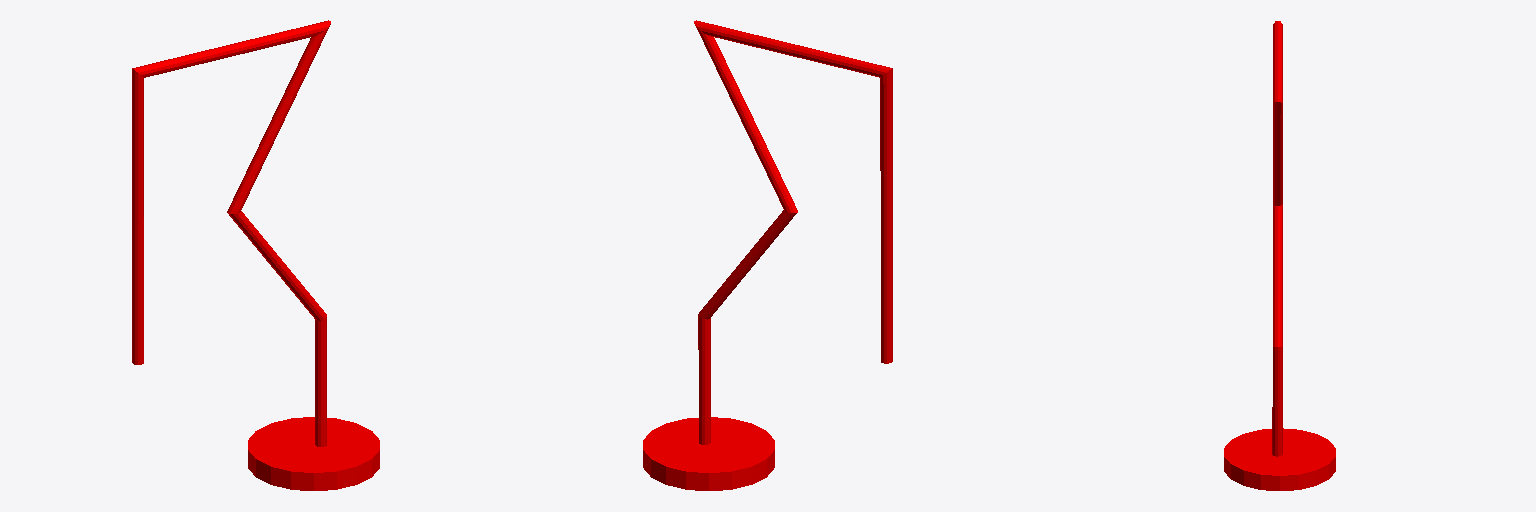
URDF robot description (ring):
<?xml version="0.0" ?>
<robot name="ring">
    <material name="white">
        <color rgba="1 0 0 1"/>
    </material>

    <link name="baseLink">
        <!-- from lego/lego.urdf -->
        <contact>
            <lateral_friction value="1.0"/>
            <rolling_friction value="0.0"/>
            <contact_cfm value="0.0"/>
            <contact_erp value="1.0"/>
        </contact>
        <inertial>
            <origin rpy="0 0 0" xyz="0 0 0"/>
            <mass value="0.01"/>
            <inertia ixx="1" ixy="0" ixz="0" iyy="1" iyz="0" izz="1"/>
        </inertial>
        <visual>
            <origin rpy="1.57 0 0" xyz="0 0 0"/>
            <geometry>
                <!--        radius: 10mm, depth: 14.5mm-->
                <mesh filename="meshes/r.obj" scale="1 1 1"/>
                <!--        <box size="0.002 0.002 0.002"/>-->
            </geometry>
            <material name="white"/>
        </visual>
        <collision>
            <origin rpy="1.57 0 0" xyz="0 0 0"/>
            <geometry>
                <mesh filename="meshes/r_vhacd.obj" scale="1 1 1"/>
                       <!-- <box size="2 2 2"/> -->
            </geometry>
        </collision>
    </link>
</robot>

--- Render facts (derived) ---
3 views of the same robot in one strip: view 1: azimuth 30°, elevation 25°; view 2: azimuth 150°, elevation 25°; view 3: azimuth 270°, elevation 25° (orthographic).
Robot: ring — 1 links, 0 joints (none); root link baseLink; default pose: all joints at 0.
Links seen in each view (by area): view 1: baseLink; view 2: baseLink; view 3: baseLink.
Link boxes in pixels (x1=…): baseLink: x1=132, y1=20, x2=379, y2=490; baseLink: x1=643, y1=20, x2=892, y2=490; baseLink: x1=1224, y1=21, x2=1335, y2=490.
Size in the robot's own frame: 0.0651 by 0.031 by 0.1139 metres.
Meshes: 1 distinct files referenced, 1 mesh visuals loaded (1 OBJ).